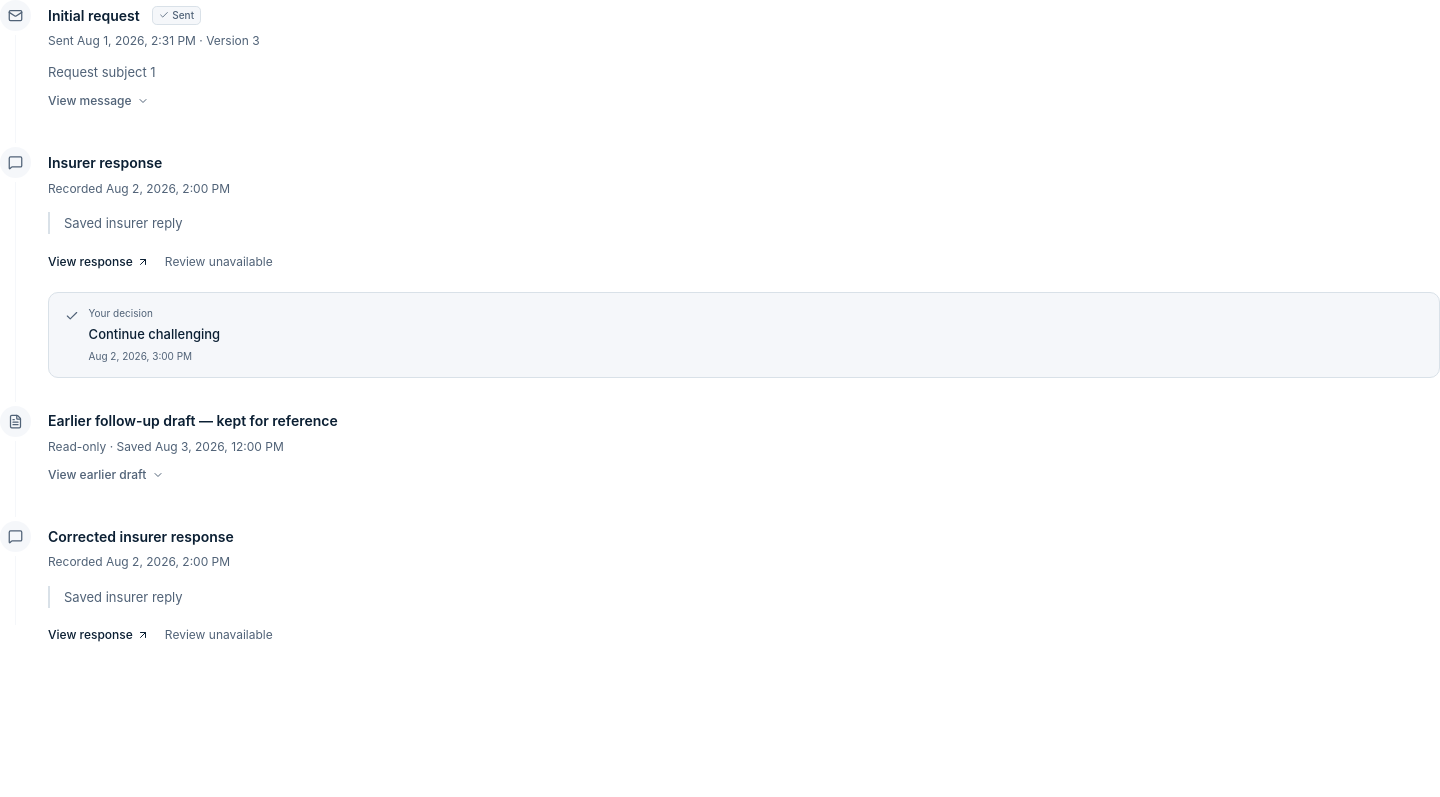
Scenario: immutable negotiation history › shows the exact earlier saved draft beside its source response without actions
Expected: the element with class "case-history-superseded-draft" shows "Earlier follow-up draft — kept for reference", [48,412,338,429]
Step 1. Click the 3rd heading → {"x": 193, "y": 447}, box [48,412,338,482]
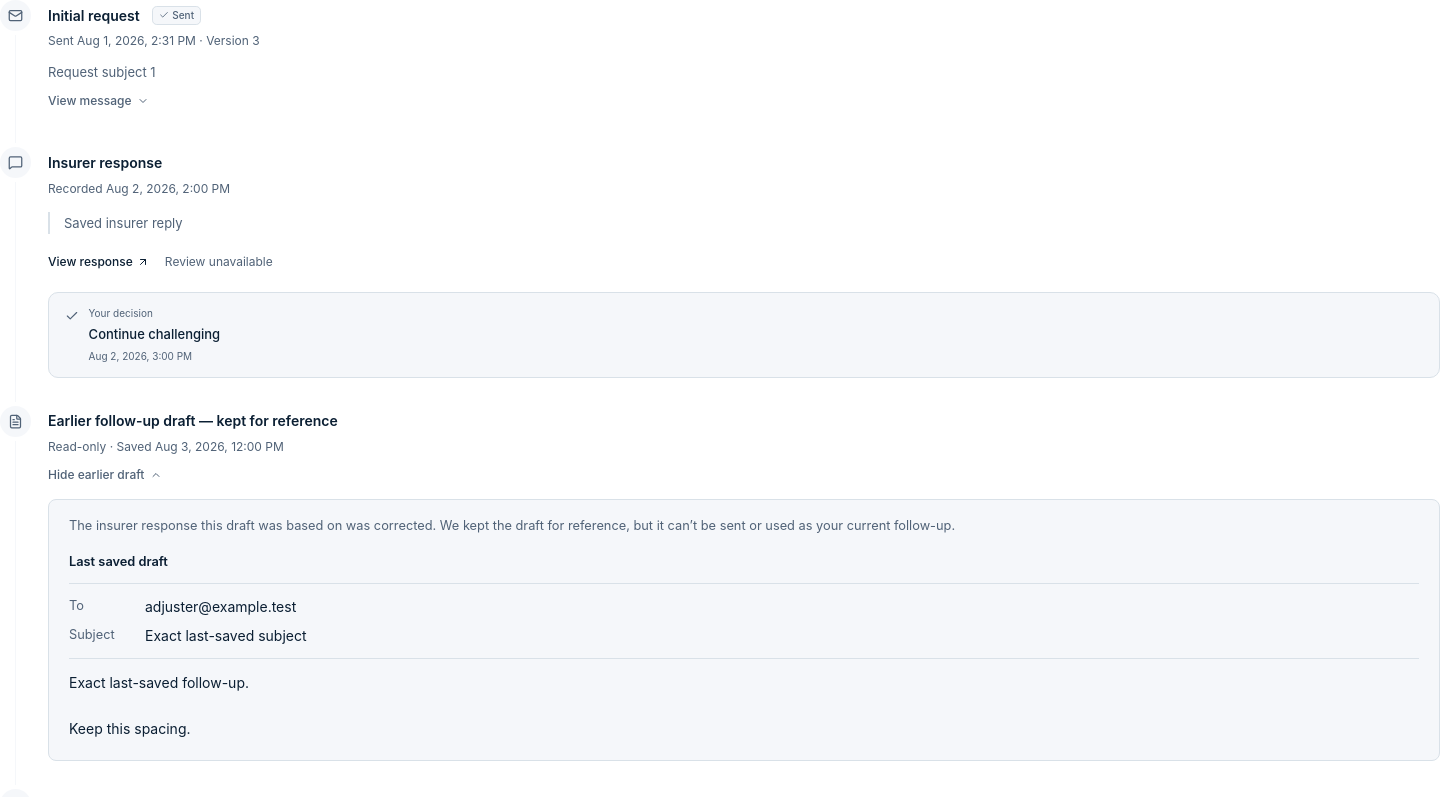
Now the element "Last saved draft" is shown, box [69,552,1419,744]
Now the text "Exact last-saved subject" is shown, box [145,627,306,644]
